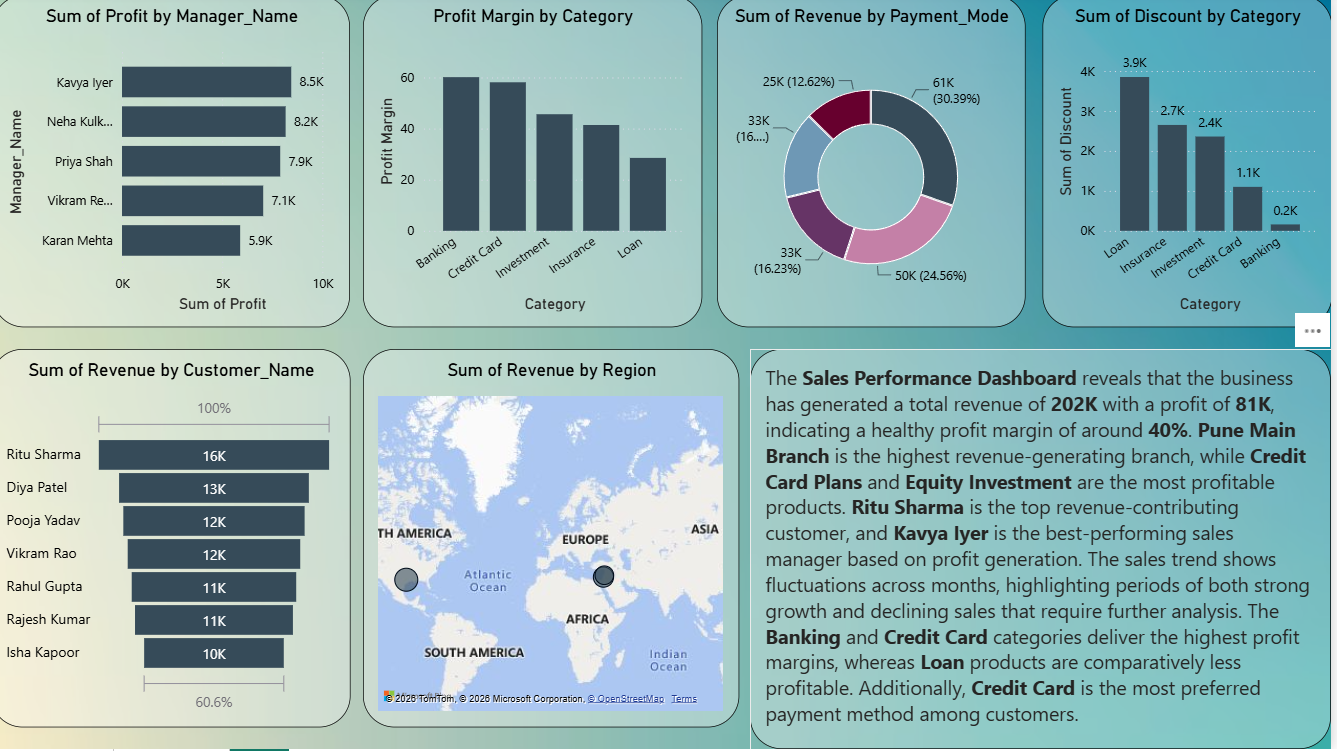

Layout of this report page (visuals, bound fields, positions):
{"tool":"powerbi","page":{"name":"Page 2","canvas":[1280,720],"ordinal":1},"visuals":[{"type":"donutChart","fields":{"Category":["bank master_sales.Payment_Mode"],"Y":["Sum(bank master_sales.Revenue)"]},"box":[692.9,0,294.4,317.2],"z":0},{"type":"clusteredColumnChart","fields":{"Category":["bank master_sales.Category"],"Y":["bank master_sales.Profit Margin"]},"box":[354.6,0,323.7,317.2],"z":1000},{"type":"clusteredBarChart","fields":{"Category":["bank master_sales.Manager_Name"],"Y":["Sum(bank master_sales.Profit)"]},"box":[1.6,0,341.6,317.2],"z":2000},{"type":"map","fields":{"Category":["bank master_sales.Region"],"Size":["Sum(bank master_sales.Revenue)"]},"box":[354.6,338.3,359.5,361.1],"z":3000},{"type":"funnel","fields":{"Category":["bank master_sales.Customer_Name"],"Y":["Sum(bank master_sales.Revenue)"]},"box":[0,338.3,343.2,361.1],"z":4000},{"type":"clusteredColumnChart","fields":{"Y":["Sum(bank master_sales.Discount)"],"Category":["bank master_sales.Category"]},"box":[1003.6,0,276.5,317.2],"z":5000},{"type":"textbox","box":[725.4,338.3,554.7,382.2],"z":6000}]}

Visuals, with their boxes in screenshot pixels (x1, y1, x2, y2), scaled from the page's 1280x720 canvas onto the 1337x751 screenshot:
donutChart - bank master_sales.Payment_Mode x Sum(bank master_sales.Revenue): locate(724, 0, 1031, 331)
clusteredColumnChart - bank master_sales.Category x bank master_sales.Profit Margin: locate(370, 0, 709, 331)
clusteredBarChart - bank master_sales.Manager_Name x Sum(bank master_sales.Profit): locate(2, 0, 358, 331)
map - bank master_sales.Region x Sum(bank master_sales.Revenue): locate(370, 353, 746, 730)
funnel - bank master_sales.Customer_Name x Sum(bank master_sales.Revenue): locate(0, 353, 358, 730)
clusteredColumnChart - Sum(bank master_sales.Discount) x bank master_sales.Category: locate(1048, 0, 1336, 331)
textbox: locate(758, 353, 1336, 750)
